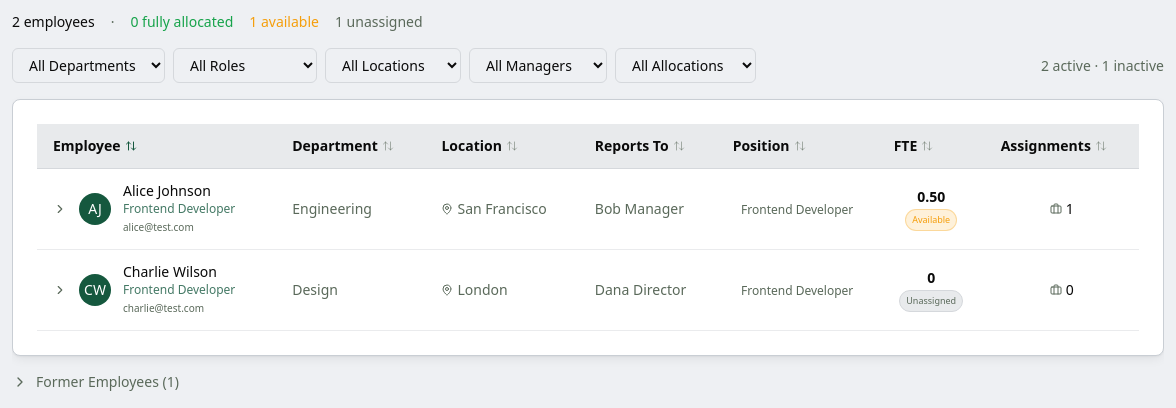
Scenario: EmployeeList › filters by department
Select "Engineering" in the 1st dropdown showing "All Departments" at (88, 66), box left=12, top=48, right=165, bottom=83
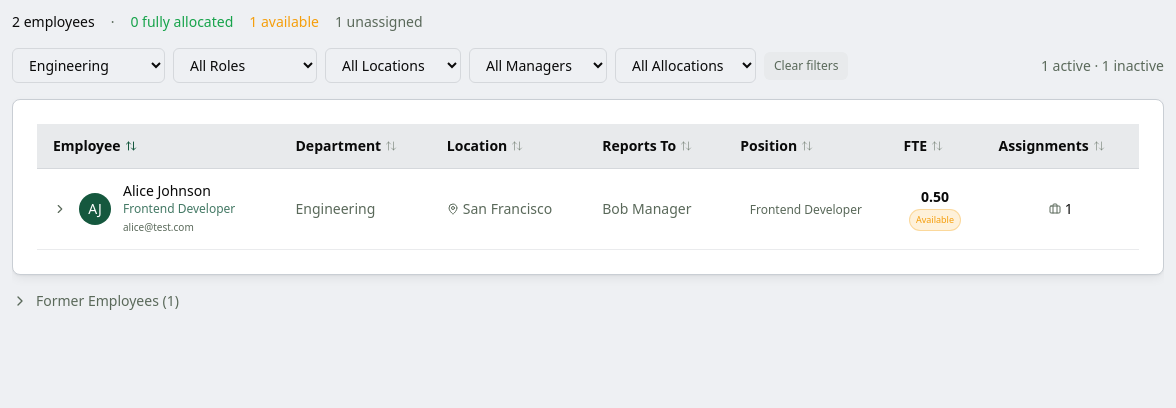
Check: the link "Alice Johnson" is shown, box left=123, top=181, right=211, bottom=200
Check: the link "Charlie Wilson" is gone
